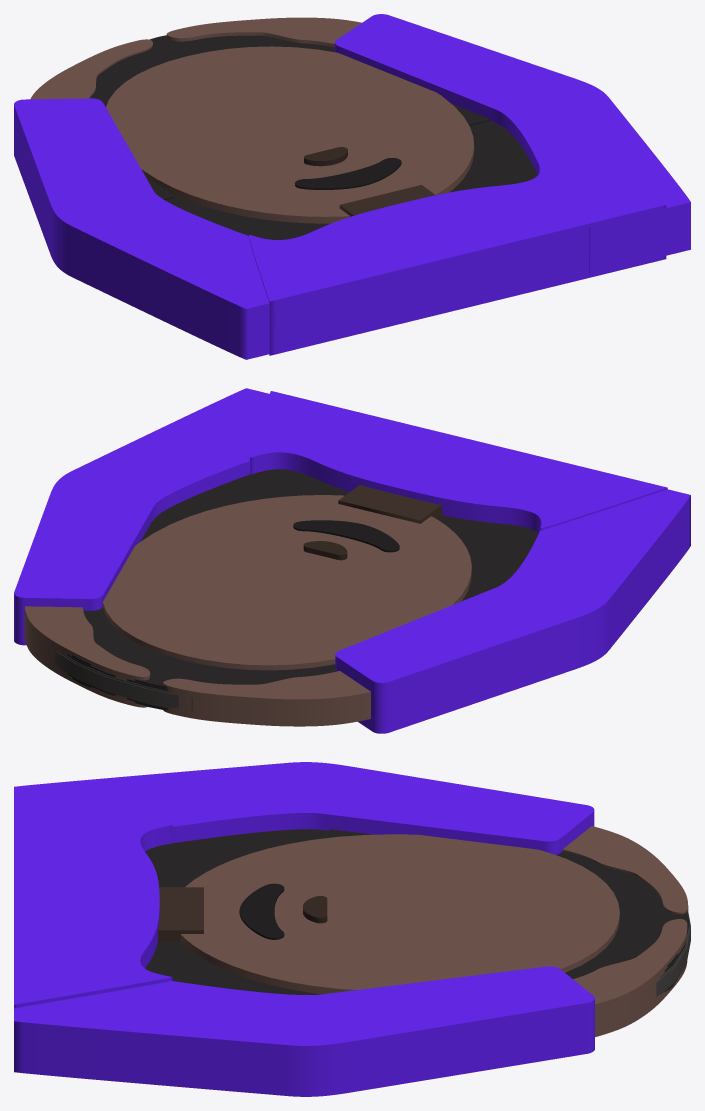
Rendered from emoji_u1f646_1f3ff_200d_2640.glb.
The picture shows the model from 3 angles, top to bottom: view 1: azimuth 30°, elevation 25°; view 2: azimuth 150°, elevation 25°; view 3: azimuth 270°, elevation 25°; orthographic projection. The views are drawn at different scales.
Visible parts, largest first — view 1: emoji_u1f646_1f3ff_200d_2640; view 2: emoji_u1f646_1f3ff_200d_2640; view 3: emoji_u1f646_1f3ff_200d_2640.
Boxes of the visible parts, x1,y1,x2,y2 form: emoji_u1f646_1f3ff_200d_2640: (14, 14, 690, 359); emoji_u1f646_1f3ff_200d_2640: (14, 388, 690, 733); emoji_u1f646_1f3ff_200d_2640: (14, 762, 690, 1096).
Size of the model in its own units: 0.0333 by 0.0032 by 0.0337.
